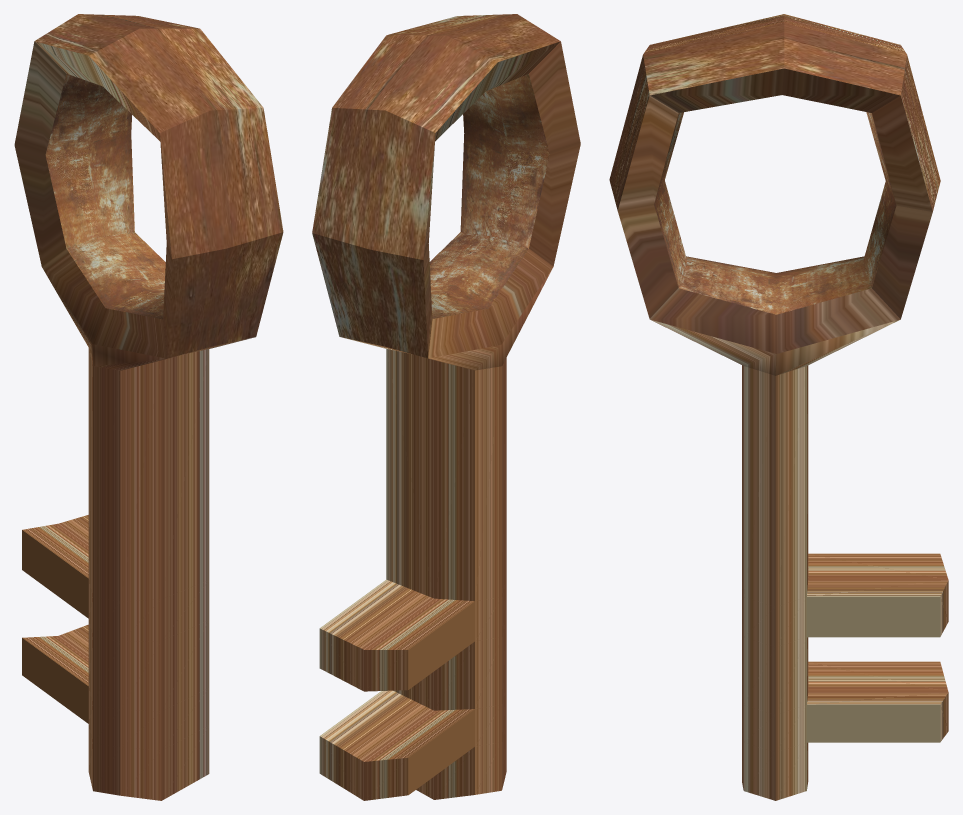
Rendered from key.obj.
3 renders of one model, left to right at view 1: azimuth 30°, elevation 25°; view 2: azimuth 150°, elevation 25°; view 3: azimuth 270°, elevation 25°, orthographic.
Visible parts, largest first — view 1: pCube2; view 2: pCube2; view 3: pCube2.
Part boxes in pixels (<box>): pCube2: <box>14,14,283,800</box>; pCube2: <box>312,14,580,800</box>; pCube2: <box>609,14,948,800</box>.
Size of the model in its own units: 40.85 by 267 by 108.
Materials: 1 (1 with a texture image).
